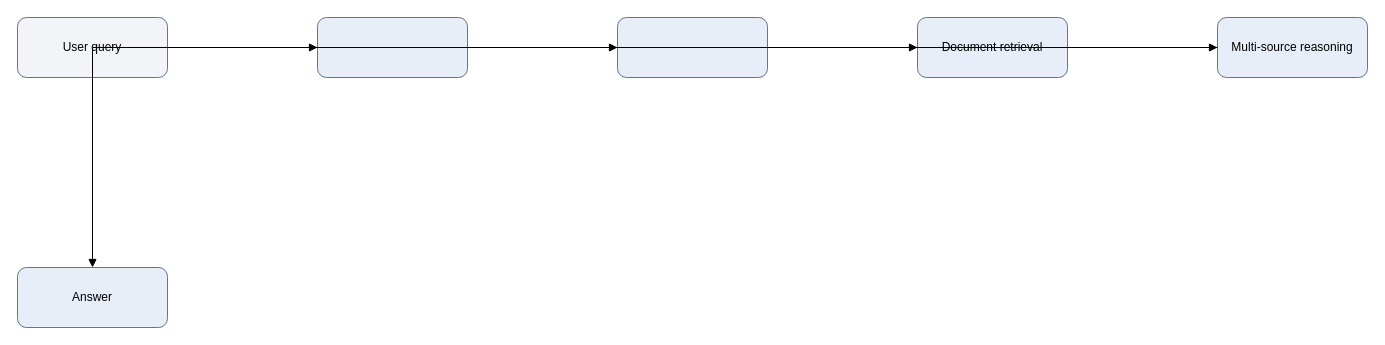
The diagram is 1385 pixels wide and 345 high, and some of its shapes have lost their labels. Here are the shapes that lost their labels. From the top down, the centre of each, then its label:
At pixel 392 47: "Tool selection".
At pixel 692 47: "API hop".
